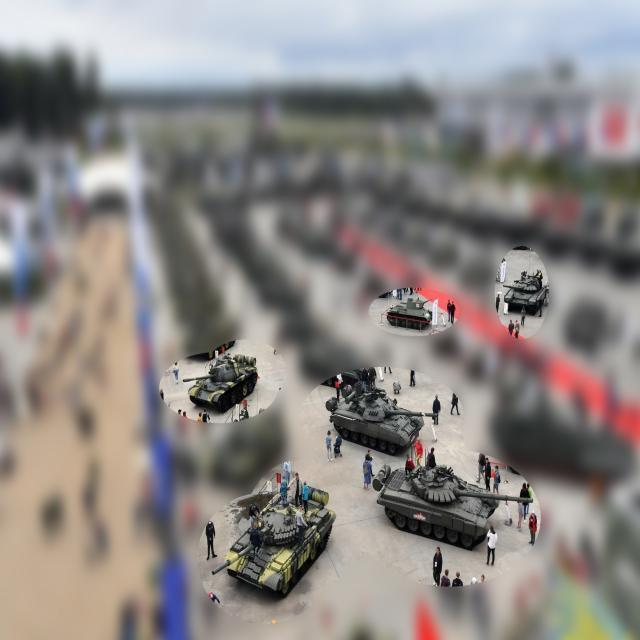Tanks: (210, 478, 336, 598), (376, 466, 535, 550), (328, 386, 438, 457), (183, 348, 262, 411), (502, 268, 554, 315), (384, 294, 436, 333)
